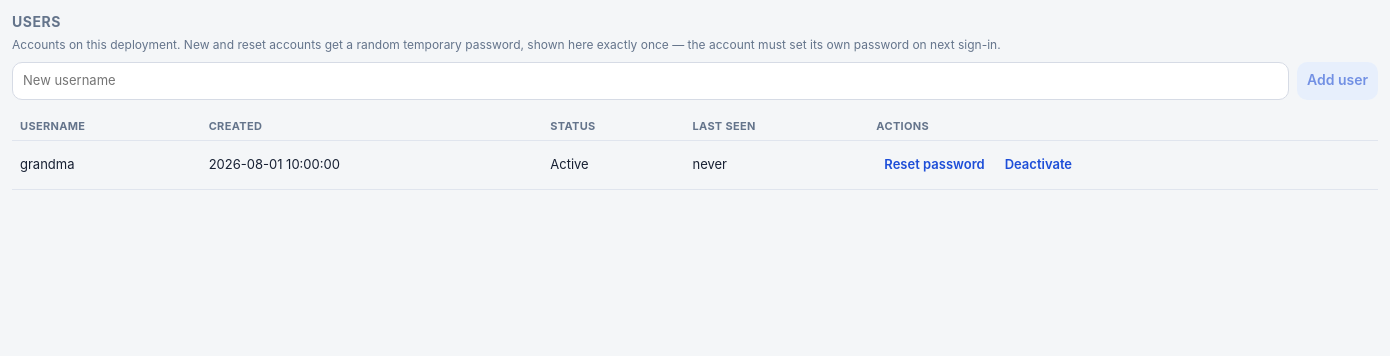
Test: Users › copies the revealed temporary password to the clipboard
This screenshot has width=1390, height=356.
Check: the text "grandma" is shown, box [12,140,201,190]
Type "newkid" into the field labelled "New username" at (650, 81), box [12,62,1289,100]
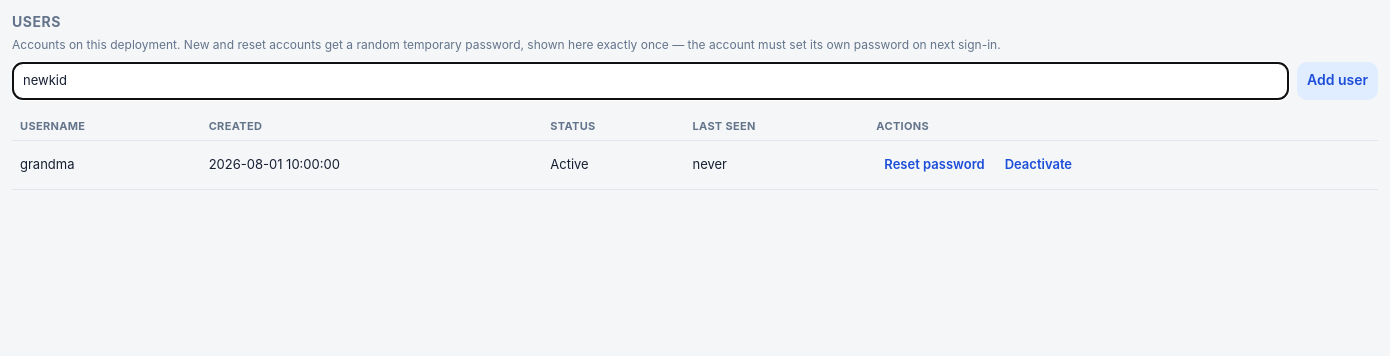
Click the button "Add user" at (1337, 81), box [1297,62,1378,100]
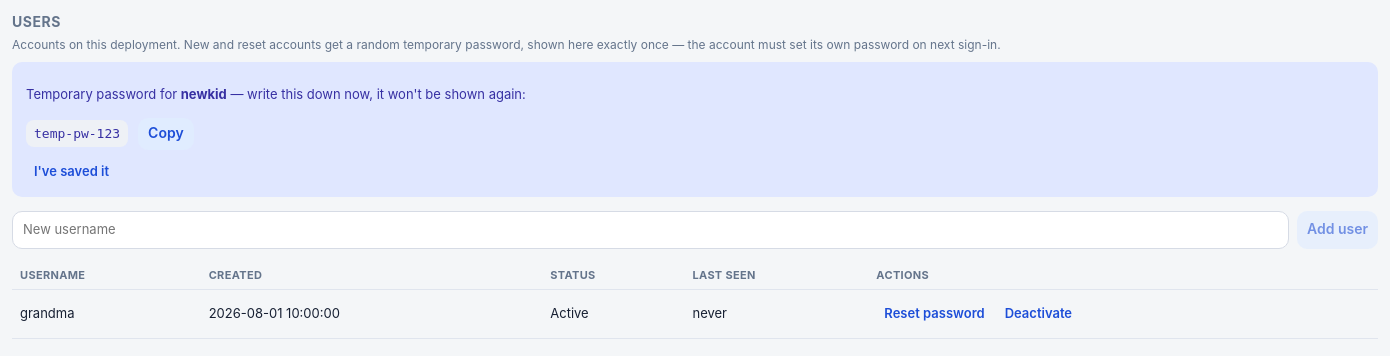
Check: the text "temp-pw-123" is shown, box [26,120,128,147]
Click the button "Copy" at (166, 134), box [138,118,194,150]
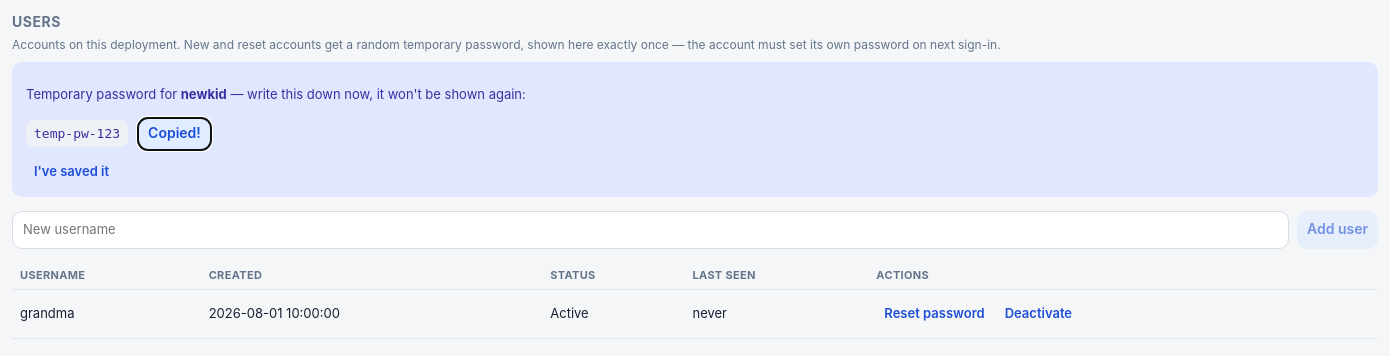
Check: the button "Copied!" is shown, box [138,118,211,150]
